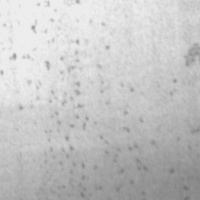pitted_surface: (56, 1, 177, 199), (2, 49, 41, 198)
